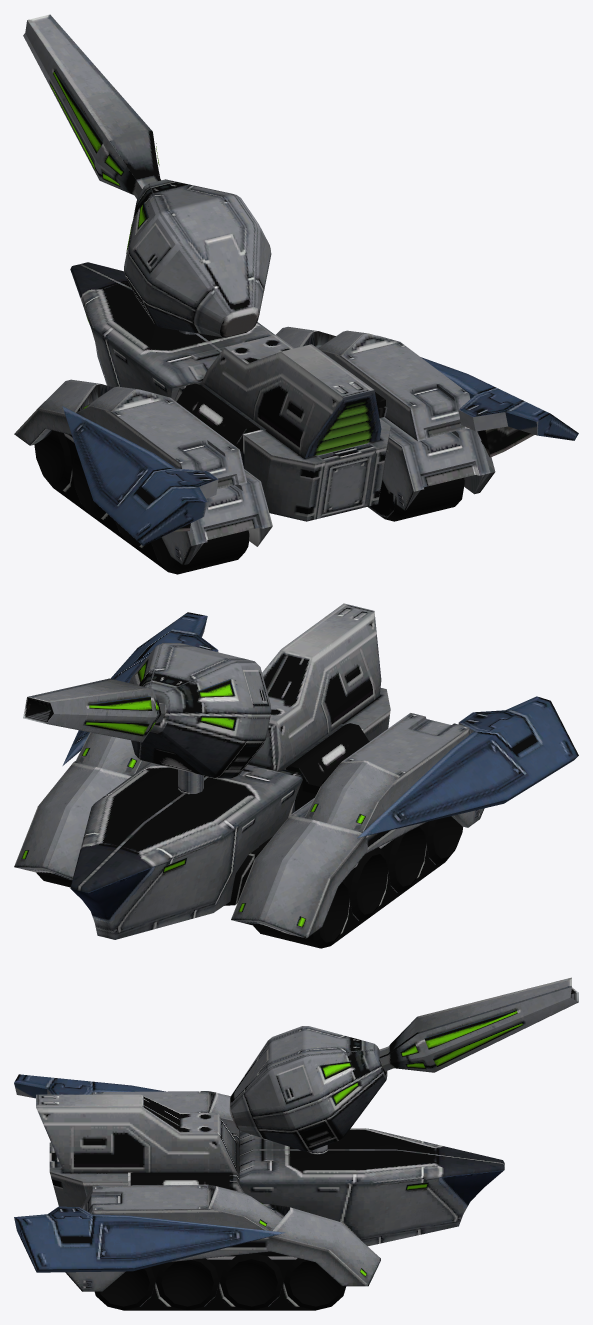
File: beam_tank.glb
3 views of the same model, one above another, from view 1: azimuth 30°, elevation 25°; view 2: azimuth 150°, elevation 25°; view 3: azimuth 270°, elevation 25° (orthographic). The views are drawn at different scales.
Parts seen in each view (by area): view 1: detail_0, turret01-arms; view 2: detail_0, turret01-arms, turret01-base; view 3: detail_0, turret01-arms.
Part boxes in pixels (bbox=[...]): detail_0: bbox=[14, 262, 578, 574]; turret01-arms: bbox=[23, 14, 271, 337]; detail_0: bbox=[14, 603, 578, 948]; turret01-arms: bbox=[23, 643, 271, 778]; turret01-base: bbox=[178, 769, 203, 794]; detail_0: bbox=[14, 1074, 504, 1310]; turret01-arms: bbox=[229, 977, 578, 1151].
Bounding box in the file's own units: 131 × 91.84 × 173.
Materials: 2 (1 with a texture image).
